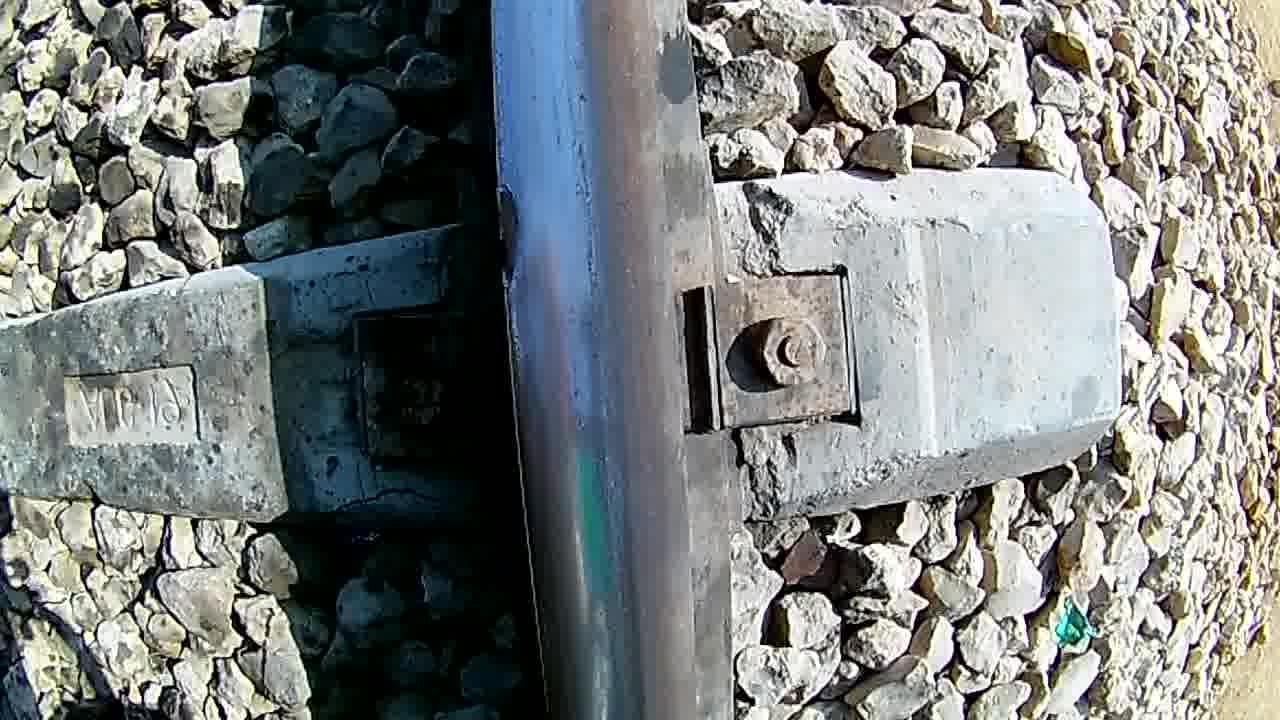crack: (512, 1, 695, 720)
